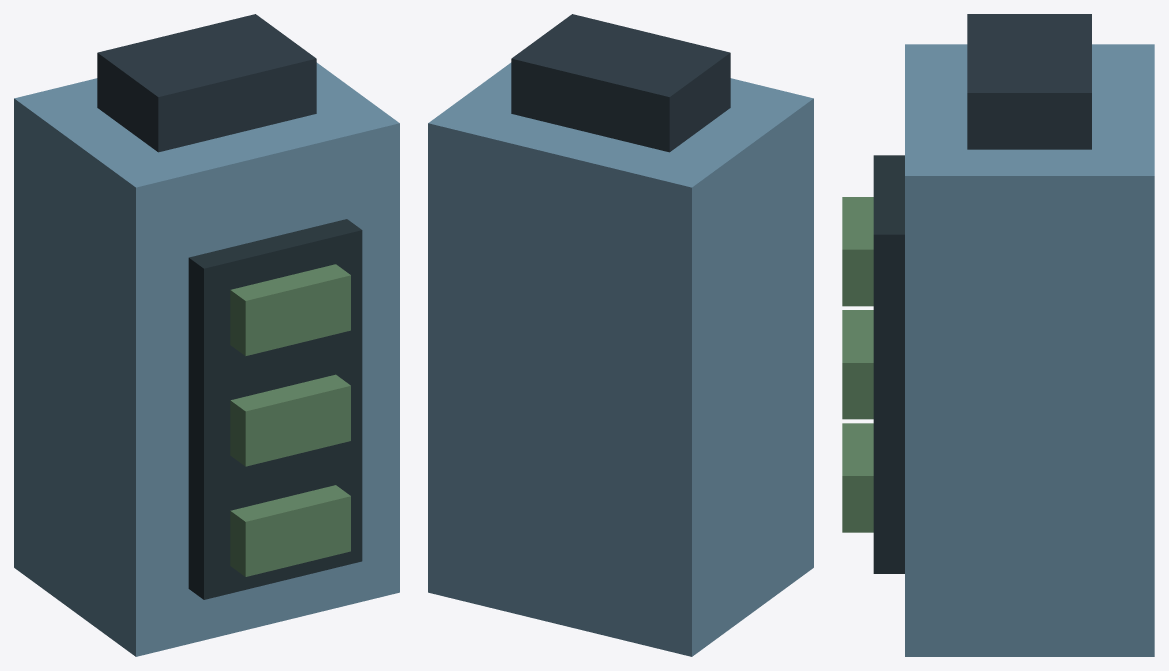
3 renders of one model, left to right at view 1: azimuth 30°, elevation 25°; view 2: azimuth 150°, elevation 25°; view 3: azimuth 270°, elevation 25°, orthographic. The views are drawn at different scales.
Parts seen in each view (by area): view 1: Compute battery; view 2: Compute battery; view 3: Compute battery.
Part boxes in pixels (left/top/right/bottom): Compute battery: left=14, top=14, right=399, bottom=656; Compute battery: left=428, top=14, right=813, bottom=656; Compute battery: left=842, top=14, right=1154, bottom=656.
Size of the model in its own units: 0.8 by 1.52 by 0.8.
